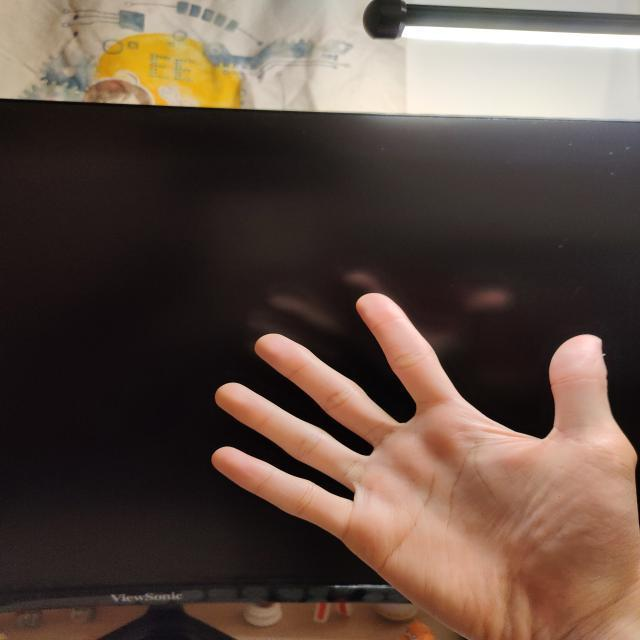hand: (211, 293, 640, 640)
